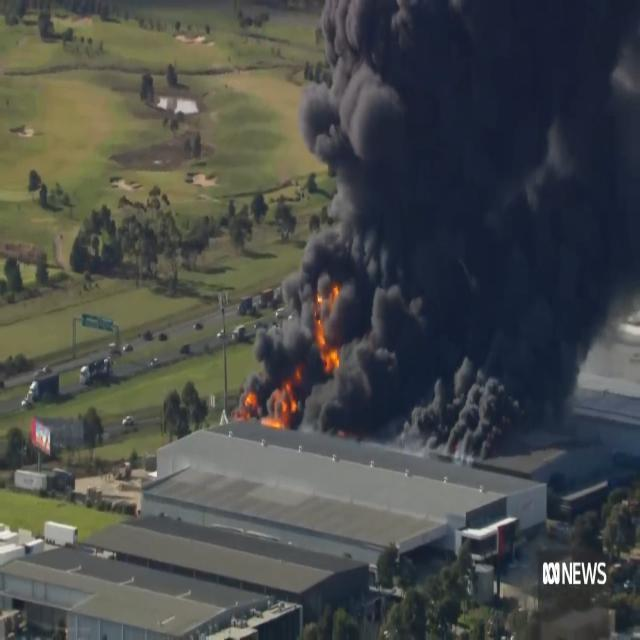fire: (240, 368, 302, 428), (314, 282, 346, 366)
